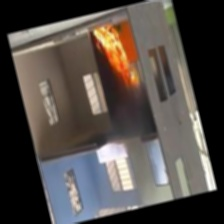fire: (92, 22, 134, 89)
smoke: (100, 89, 159, 163)
